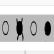correct: (42, 18, 52, 38)
no answer: (30, 16, 38, 41), (2, 18, 10, 39)
not correct: (15, 16, 24, 42)
